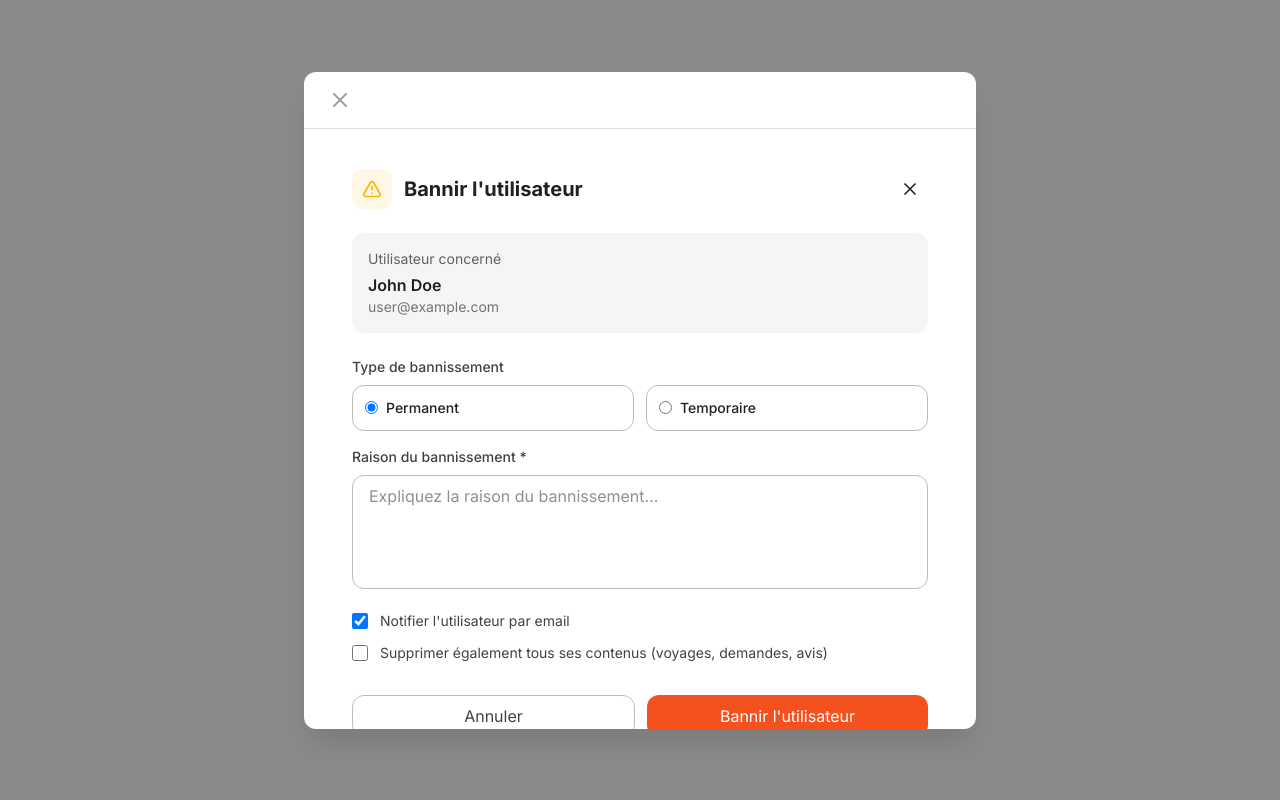
Test: BanUserModal - logique metier › exige une date de fin pour un bannissement temporaire
Click the radio button labelled "Temporaire" at (666, 408), box left=659, top=401, right=672, bottom=414
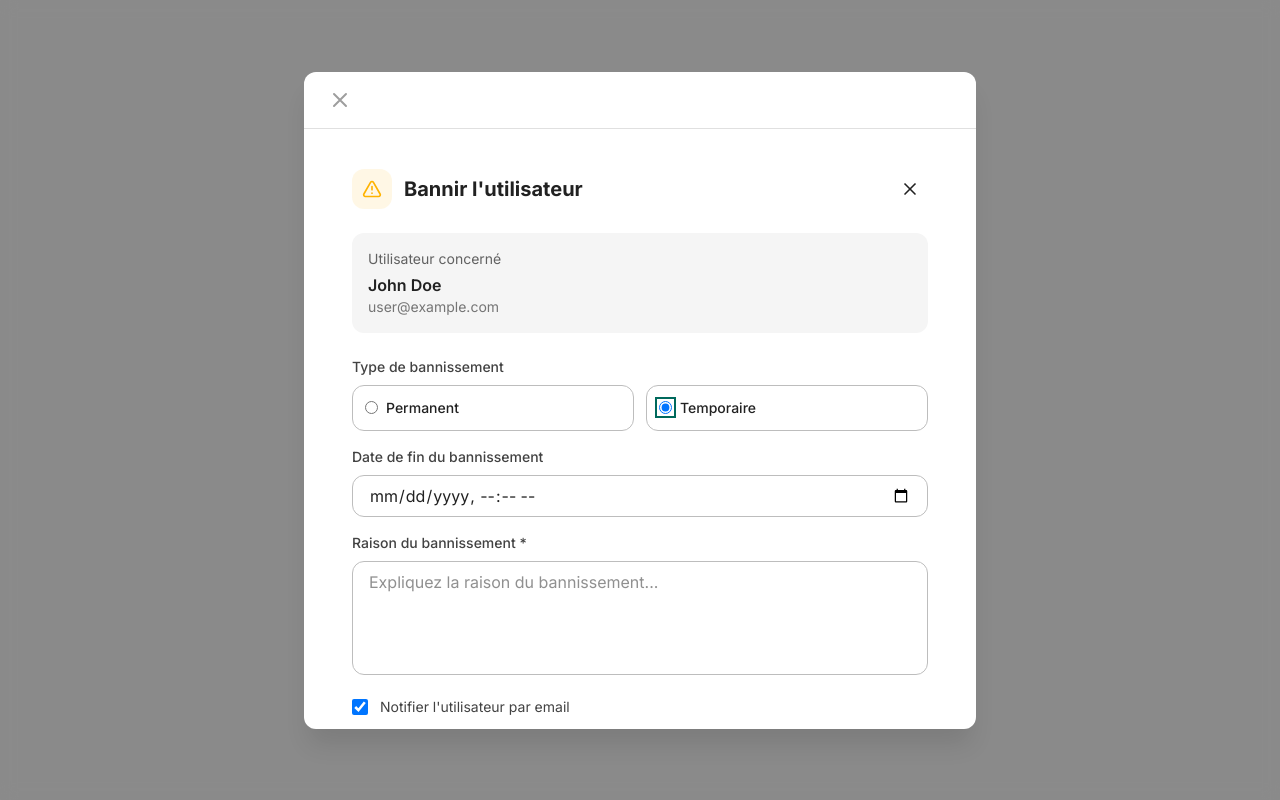
Type "Comportement inapproprié répété" into the text box with placeholder "Expliquez la raison du bannissement..." at (640, 618), box left=352, top=560, right=928, bottom=674
(page scrolled)
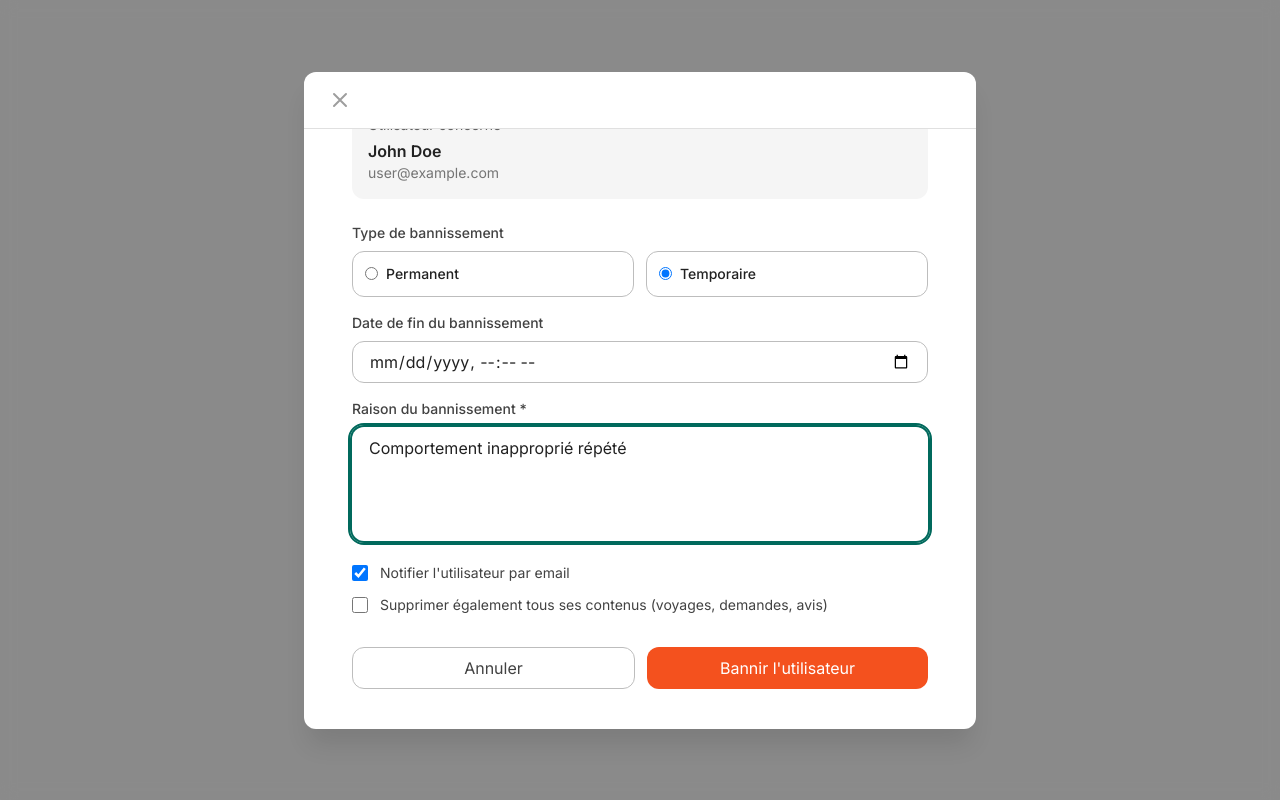
Click the button "Bannir l'utilisateur" at (788, 668), box left=647, top=646, right=928, bottom=688
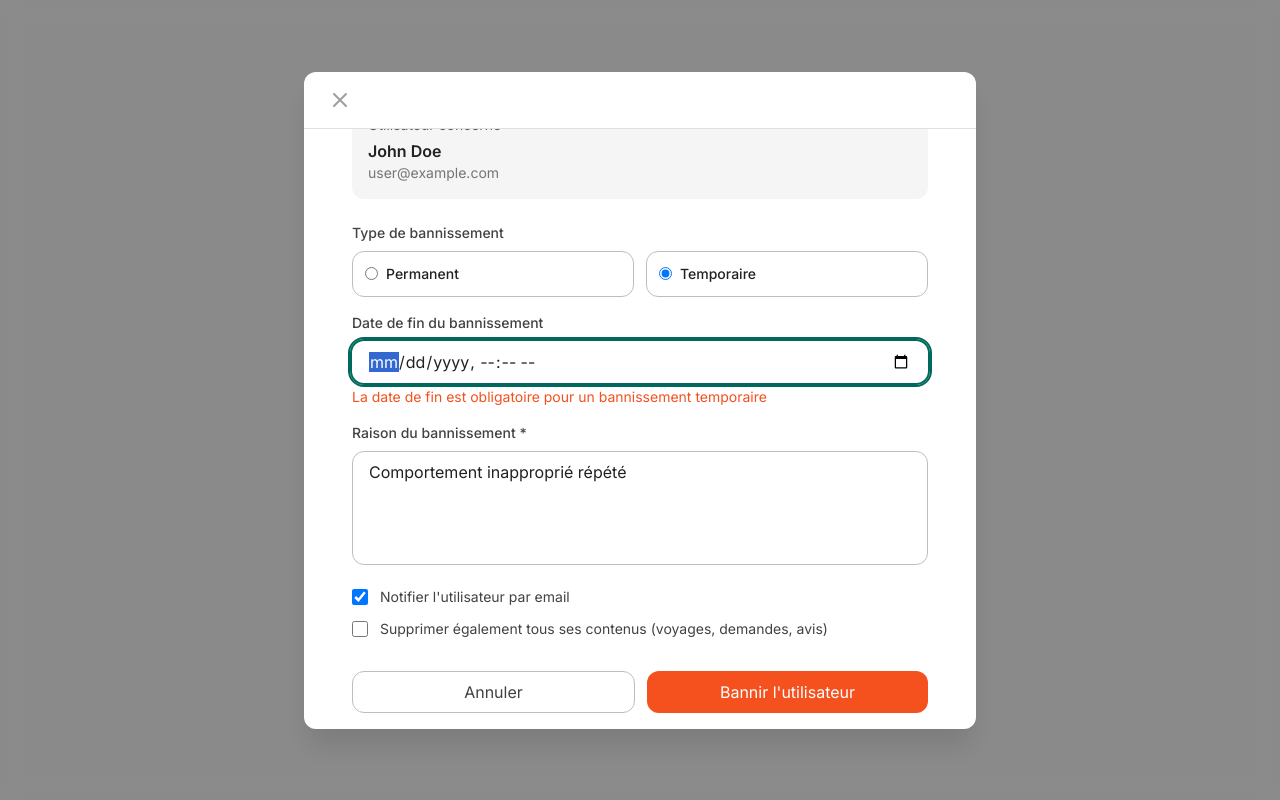
Result: the text "date de fin est obligatoire" is shown at left=352, top=388, right=767, bottom=404
